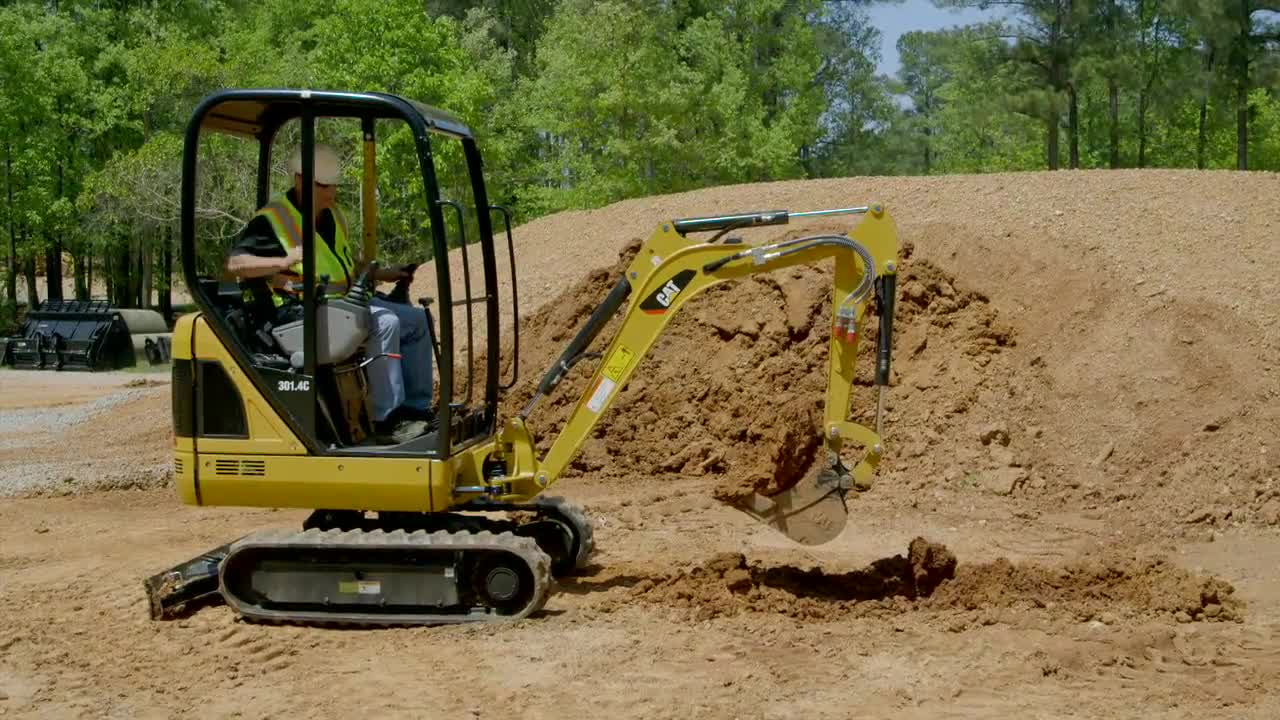attachment-bucket: (714, 445, 855, 545)
cabin: (169, 87, 523, 509)
forearm: (832, 206, 899, 481)
upperarm: (535, 236, 842, 485)
wheelbase: (214, 506, 594, 632)
